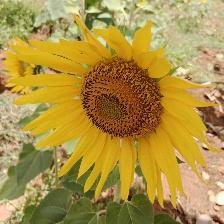sunflower: (10, 14, 224, 212)
